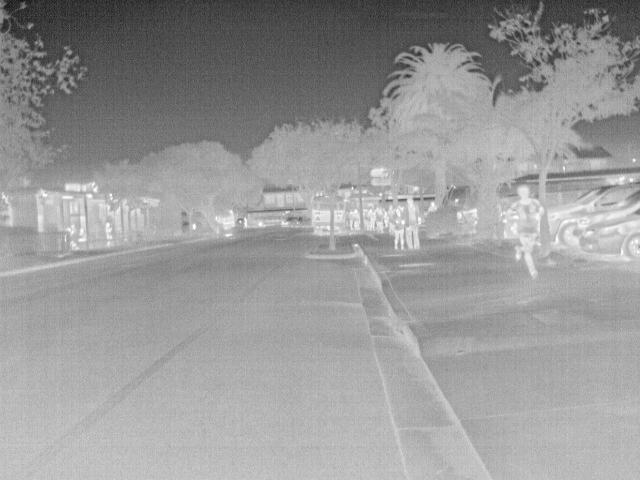car: (545, 178, 639, 250), (579, 204, 638, 264), (453, 208, 479, 230)
person: (502, 184, 545, 276), (401, 196, 422, 250), (390, 208, 408, 250), (374, 206, 386, 234), (350, 206, 362, 232), (104, 220, 114, 248), (75, 226, 89, 243), (426, 199, 439, 212), (241, 214, 249, 228)
